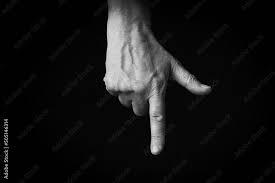Point-Down: (99, 31, 213, 156)
